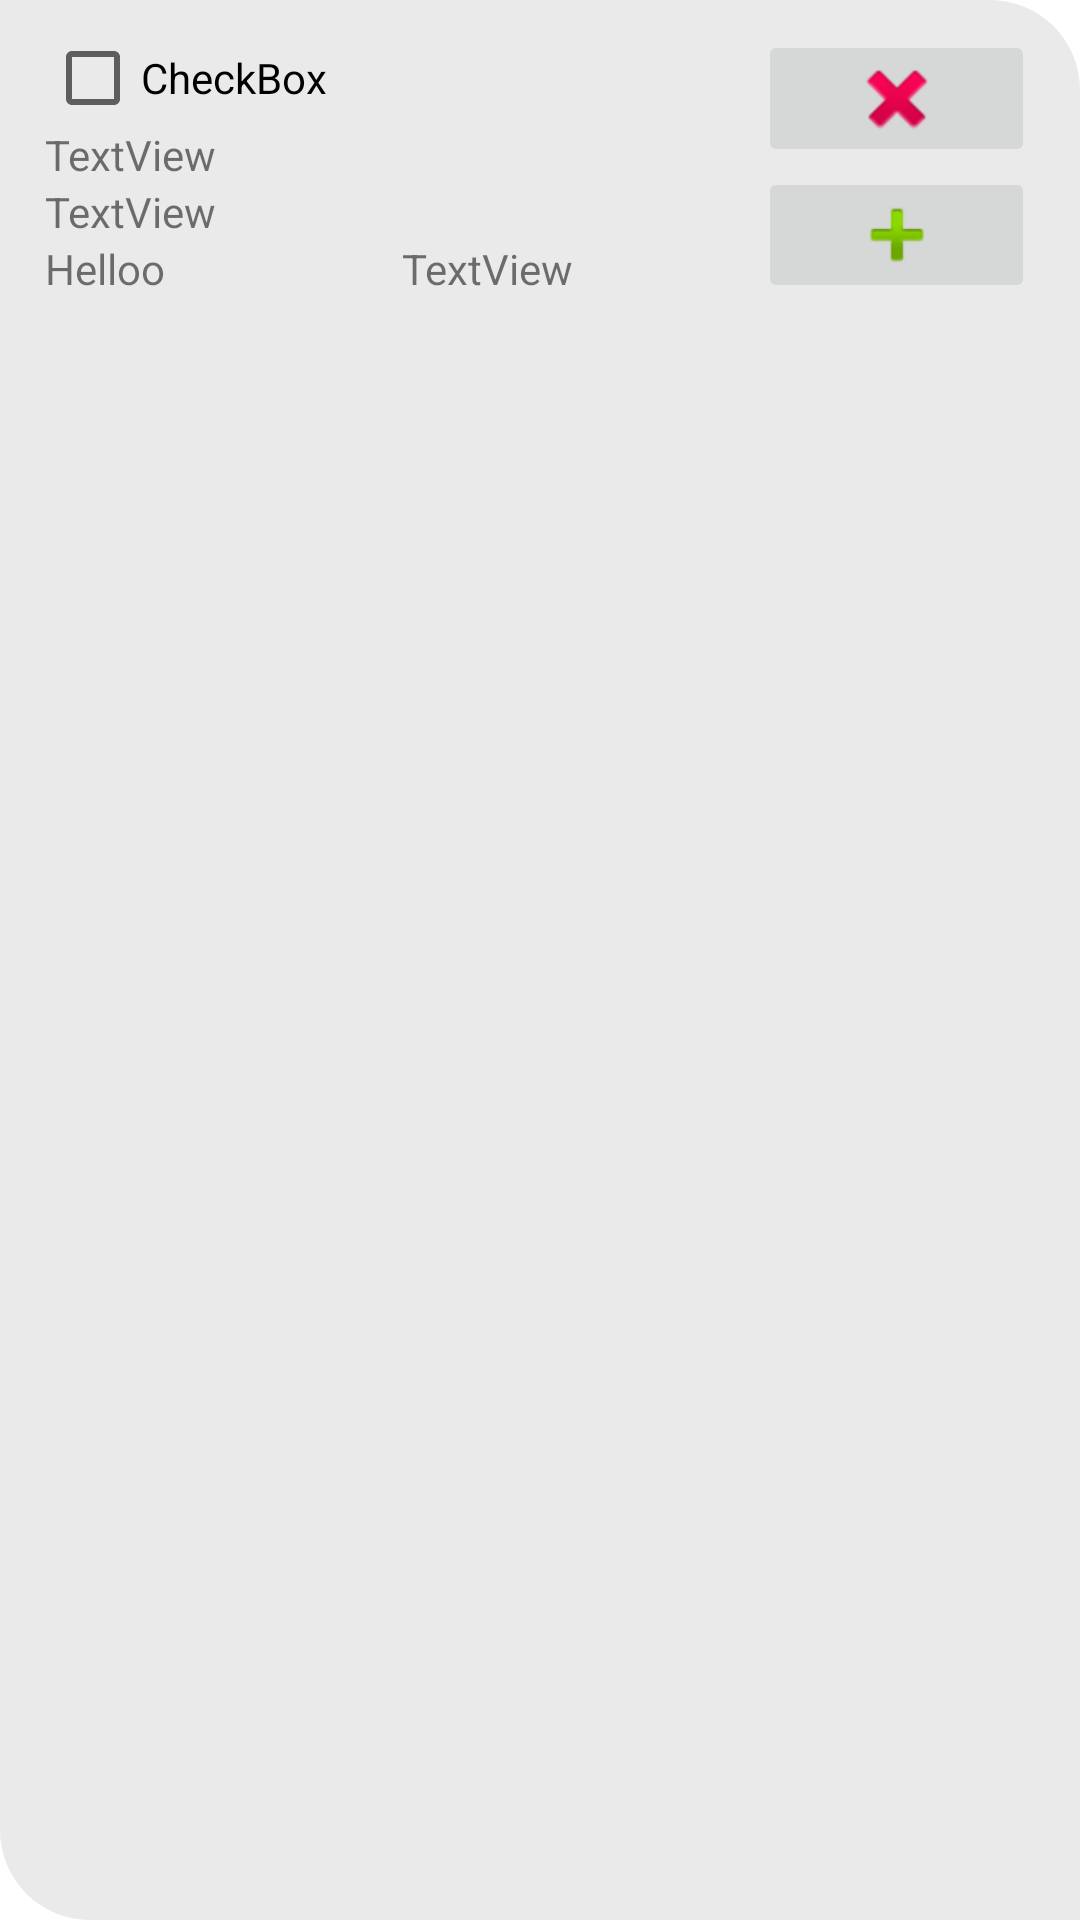

Where to tap for icons on this 1080 × 1920 app screen, as point (x, y):
add: point (896, 235)
delete: point (897, 99)
